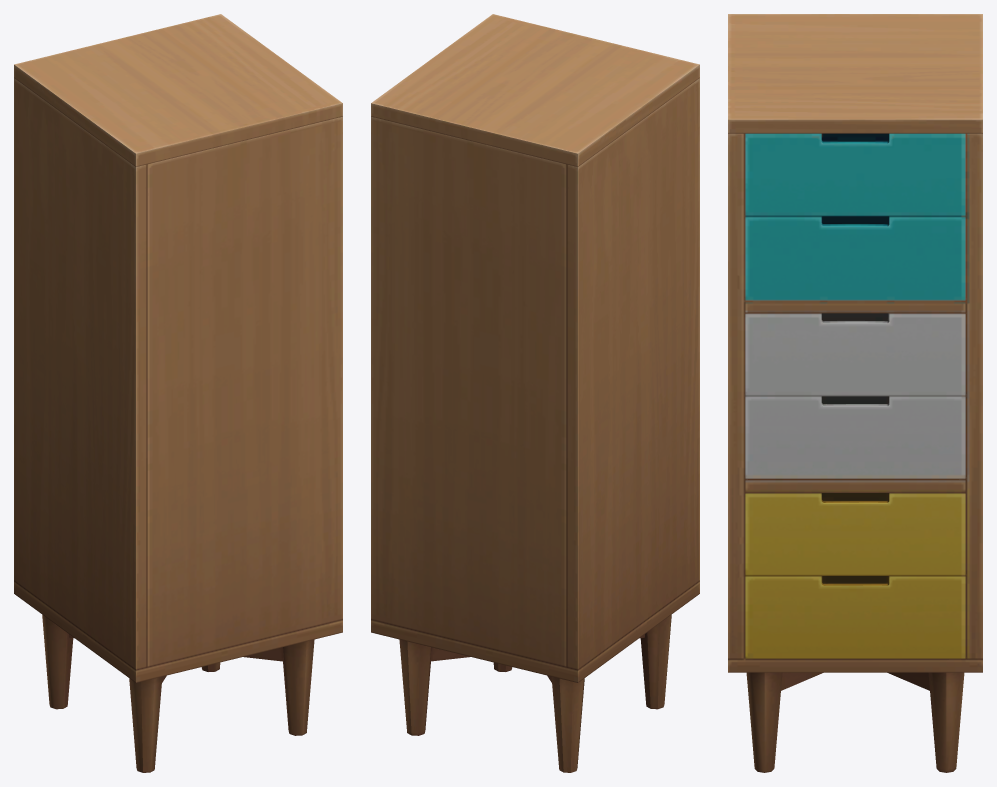
File: power_tower_dresser.glb
3 renders of one model, left to right at view 1: azimuth 30°, elevation 25°; view 2: azimuth 150°, elevation 25°; view 3: azimuth 270°, elevation 25°, orthographic. The views are drawn at different scales.
Parts seen in each view (by area): view 1: TinyLiving_PowerTowerDresser; view 2: TinyLiving_PowerTowerDresser; view 3: TinyLiving_PowerTowerDresser.
Boxes of the visible parts, left/top/right/bottom form: TinyLiving_PowerTowerDresser: left=14, top=14, right=342, bottom=772; TinyLiving_PowerTowerDresser: left=371, top=14, right=699, bottom=772; TinyLiving_PowerTowerDresser: left=728, top=14, right=982, bottom=772.
Bounding box in the file's own units: 0.5161 × 1.51 × 0.5265.
Materials: 1 (1 with a texture image).
